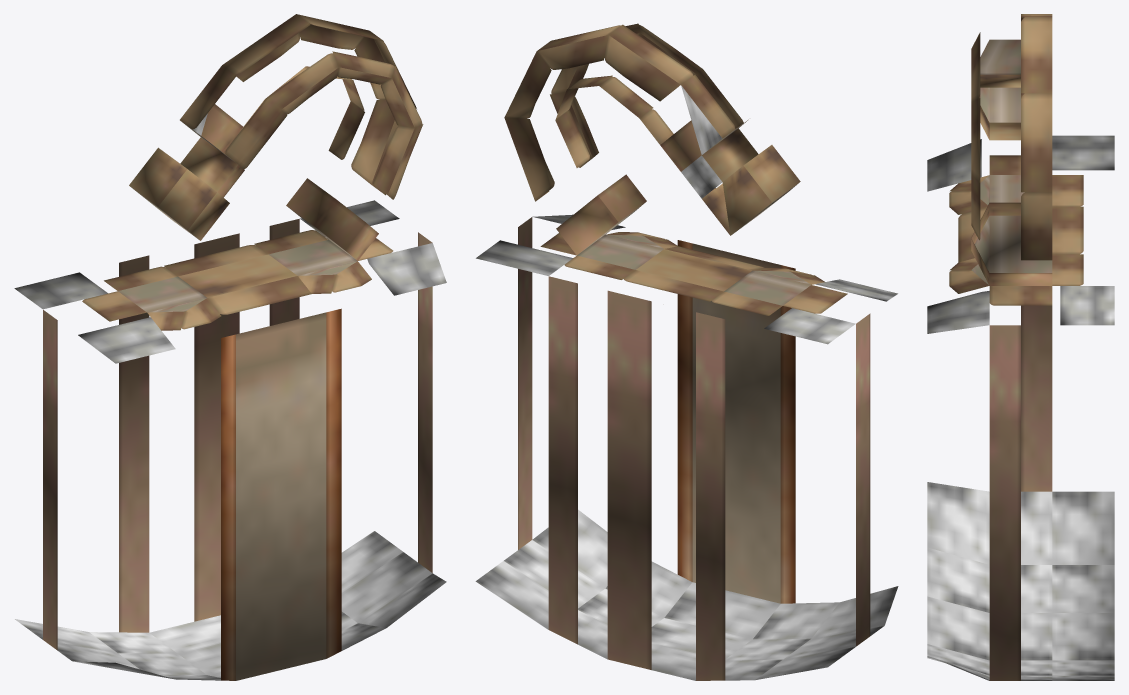
3 renders of one model, left to right at view 1: azimuth 30°, elevation 25°; view 2: azimuth 150°, elevation 25°; view 3: azimuth 270°, elevation 25°, orthographic. The views are drawn at different scales.
Parts seen in each view (by area): view 1: T1L3M003_14; view 2: T1L3M003_14; view 3: T1L3M003_14.
Part boxes in pixels (x1,y1,x2,y2): T1L3M003_14: [14, 14, 446, 680]; T1L3M003_14: [475, 23, 898, 680]; T1L3M003_14: [927, 14, 1114, 680].
Size of the model in its own units: 0.4795 by 0.7764 by 0.2002.
